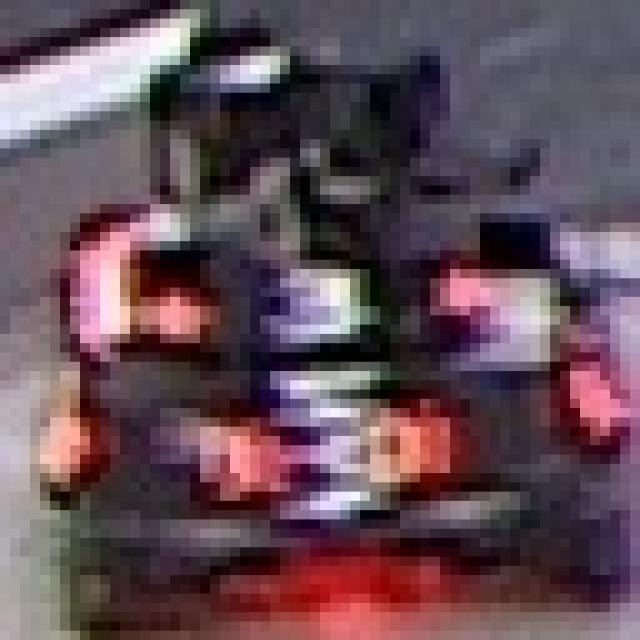R3: (210, 362, 450, 519), (160, 250, 490, 352)
